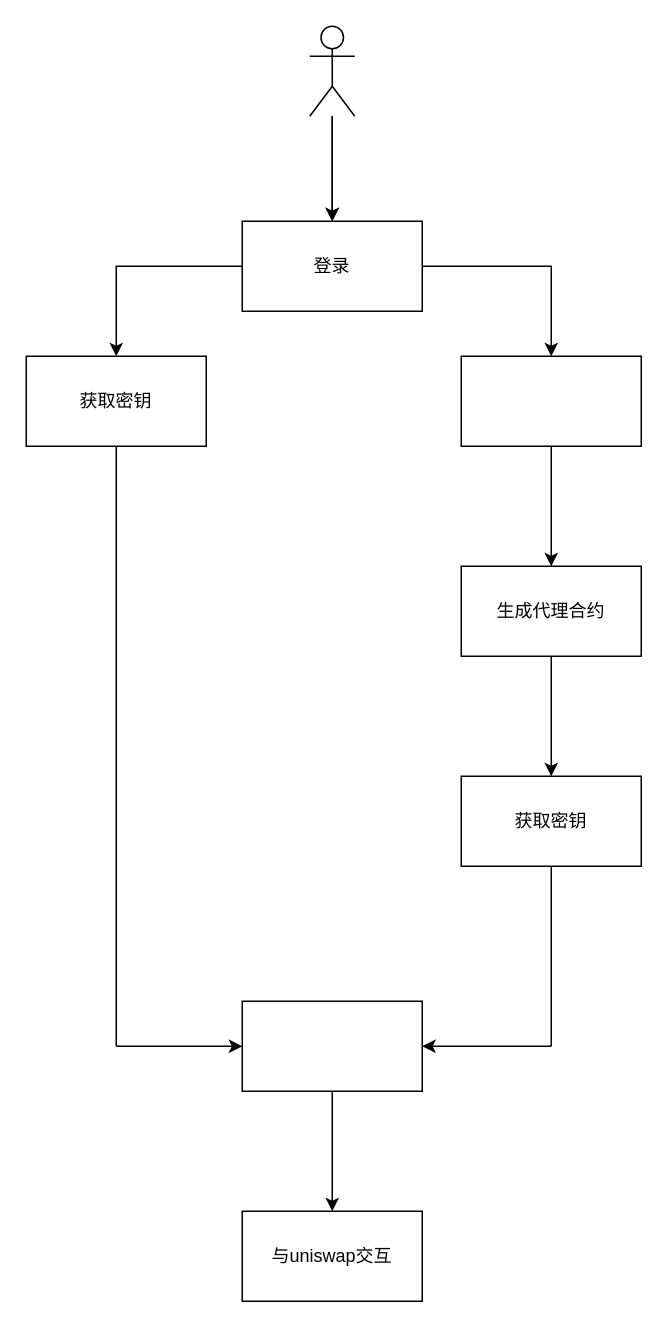
Some shapes in this 668 by 1328 pixel diagram are drawn without their labels. Here are the shapes that lost their labels. From the top down, the centre of each, then its label:
At point (331, 70): "Actor".
At point (550, 400): "创建账号".
At point (331, 1045): "发送交易".
